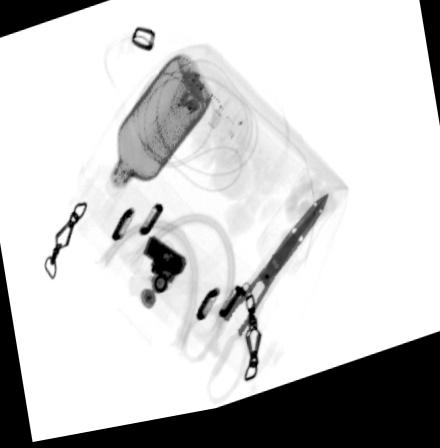Scissors: (178, 202, 330, 411)
